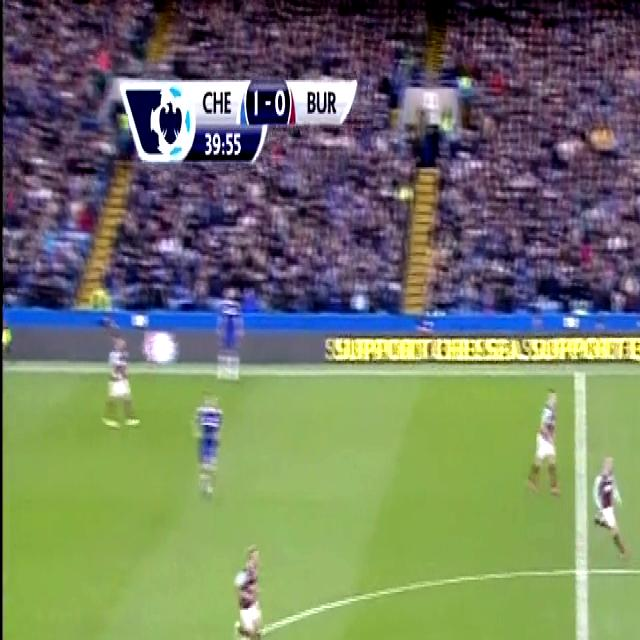referee: (5, 633, 57, 640)
soccer-player: (95, 324, 146, 442), (584, 442, 634, 559), (523, 376, 565, 505), (188, 376, 229, 508), (228, 533, 271, 640), (212, 288, 251, 391)
